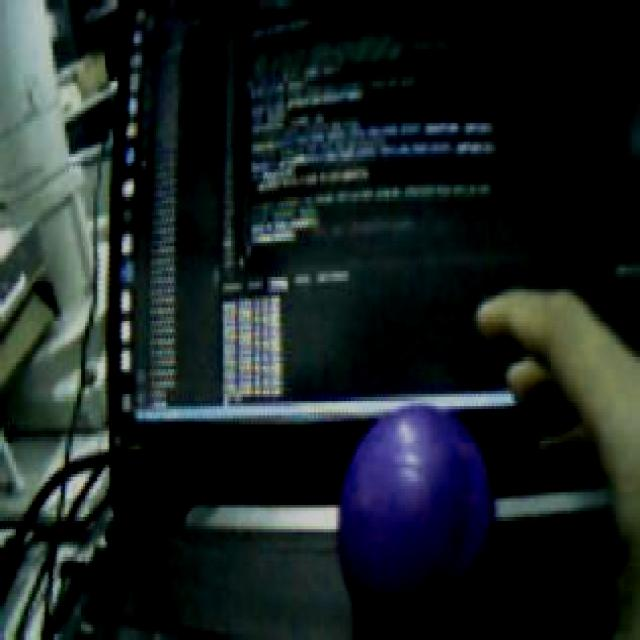BallPurple: (337, 402, 493, 628)
